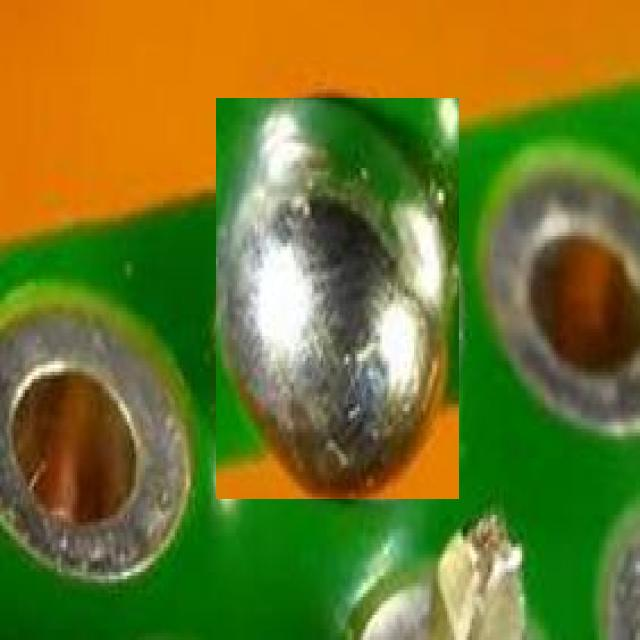redundant: (216, 98, 459, 499)
